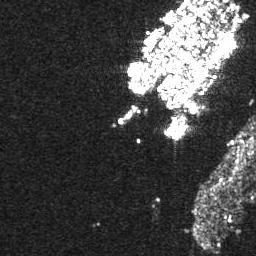ship: (118, 104, 138, 127), (170, 121, 190, 142), (143, 26, 161, 46), (175, 1, 192, 14), (160, 10, 175, 24)
